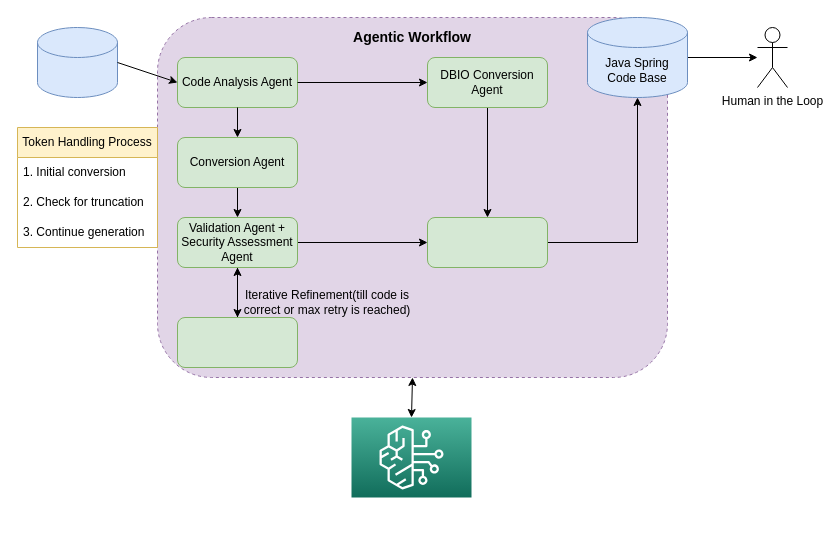
Image size: 840x551. Some labels were removed from this diagram. The shapes that lost their labels are listed below. From the top down, each one's centre as x and y in pixels, then its label:
At [77,62]: "Legacy C Code Base".
At [487,242]: "Integration Agent".
At [237,342]: "Refine Agent".
At [411,457]: "Amazon Bedrock Nova Premier".
